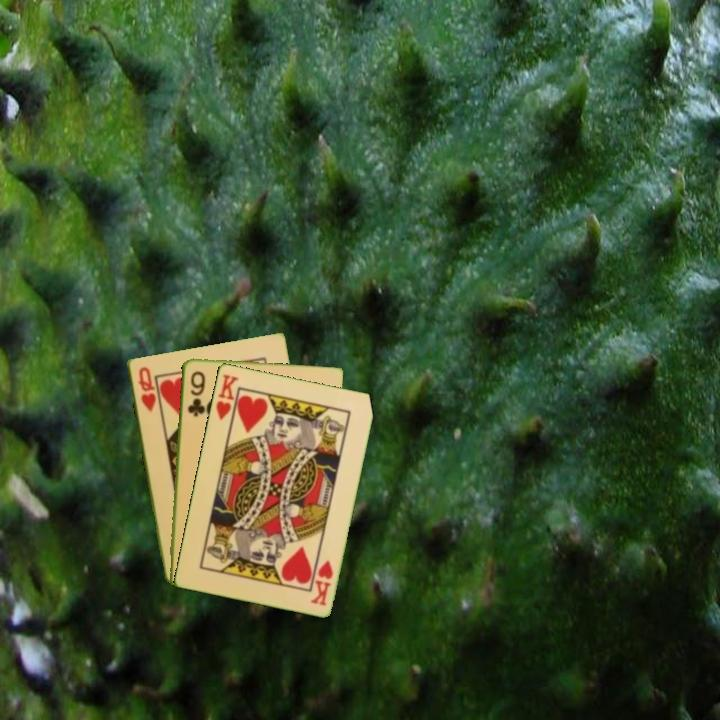9c: (184, 367, 207, 419)
Kh: (212, 370, 241, 428), (307, 556, 336, 608)
Qh: (134, 363, 158, 415)
